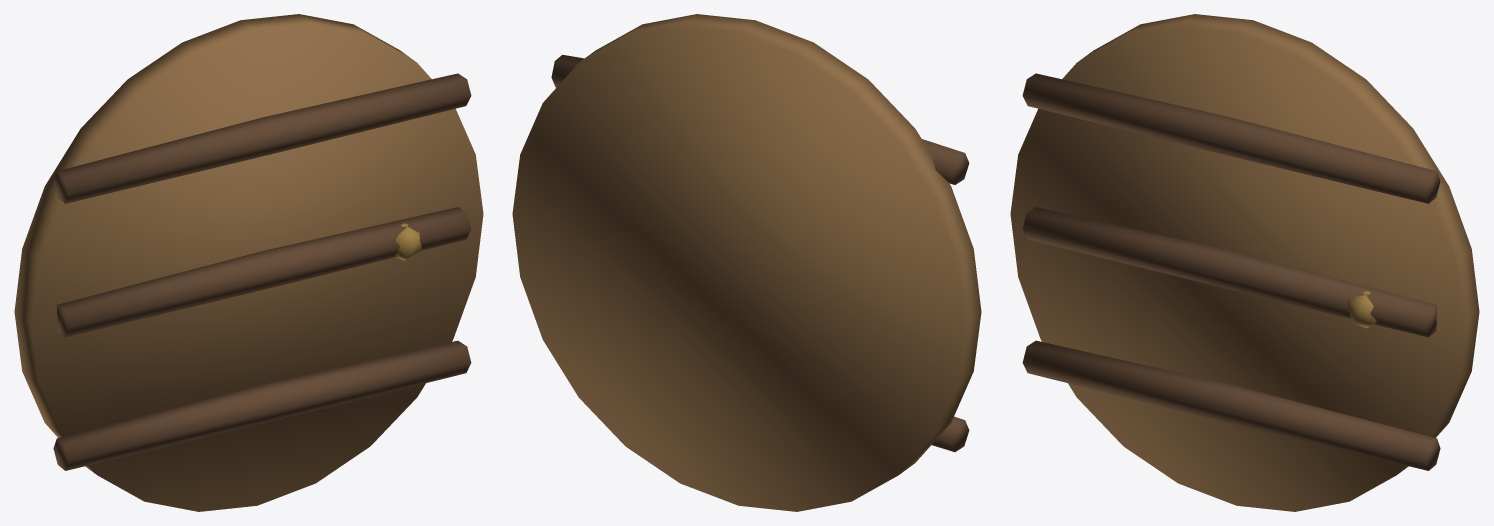
File: shq_tree_stash_lid.fbx
The picture shows the model from 3 angles, left to right: view 1: azimuth 30°, elevation 25°; view 2: azimuth 150°, elevation 25°; view 3: azimuth 330°, elevation 25°; orthographic projection.
Visible parts, largest first — view 1: shq_tree_stash_lid; view 2: shq_tree_stash_lid; view 3: shq_tree_stash_lid.
Part boxes in pixels (bbox=[...]): shq_tree_stash_lid: bbox=[14, 14, 483, 511]; shq_tree_stash_lid: bbox=[512, 14, 981, 511]; shq_tree_stash_lid: bbox=[1010, 14, 1479, 511].
Size of the model in its own units: 124 by 124 by 17.5.
